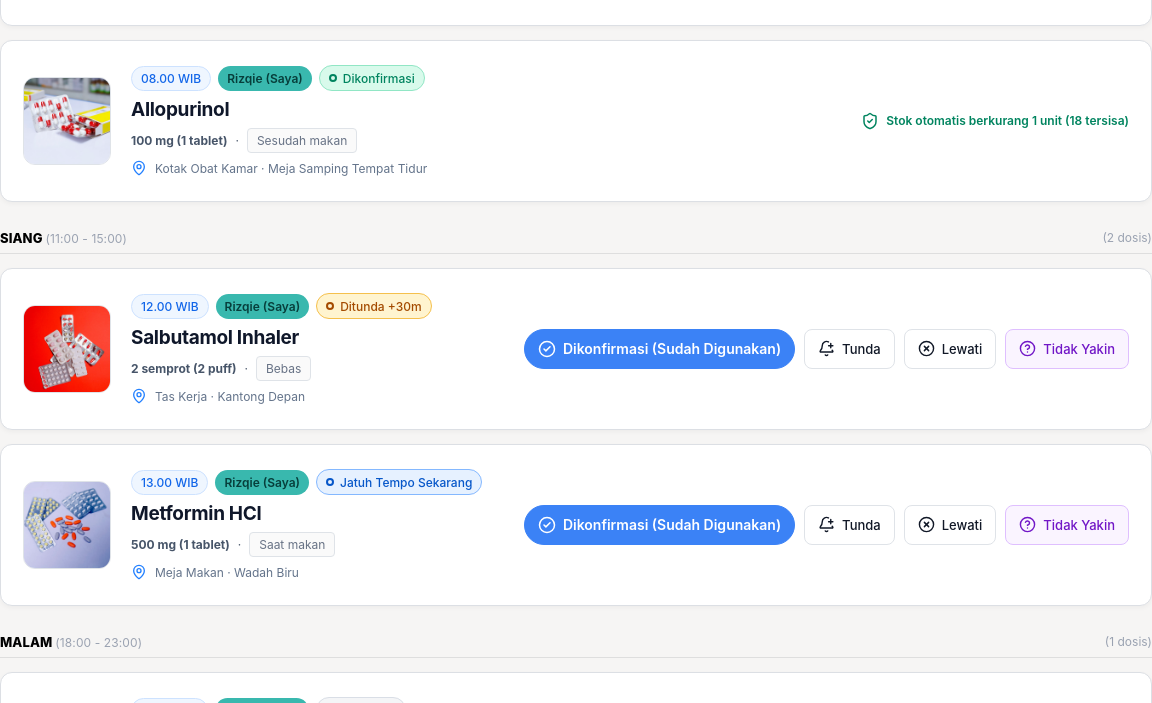
Test: TodayPage › memerlukan alasan sebelum menyimpan dosis dilewati dalam popup
The image size is (1152, 703).
(page scrolled)
Click the button "Lewati" in the row of "Bebas": (950, 349) [904,329,996,369]
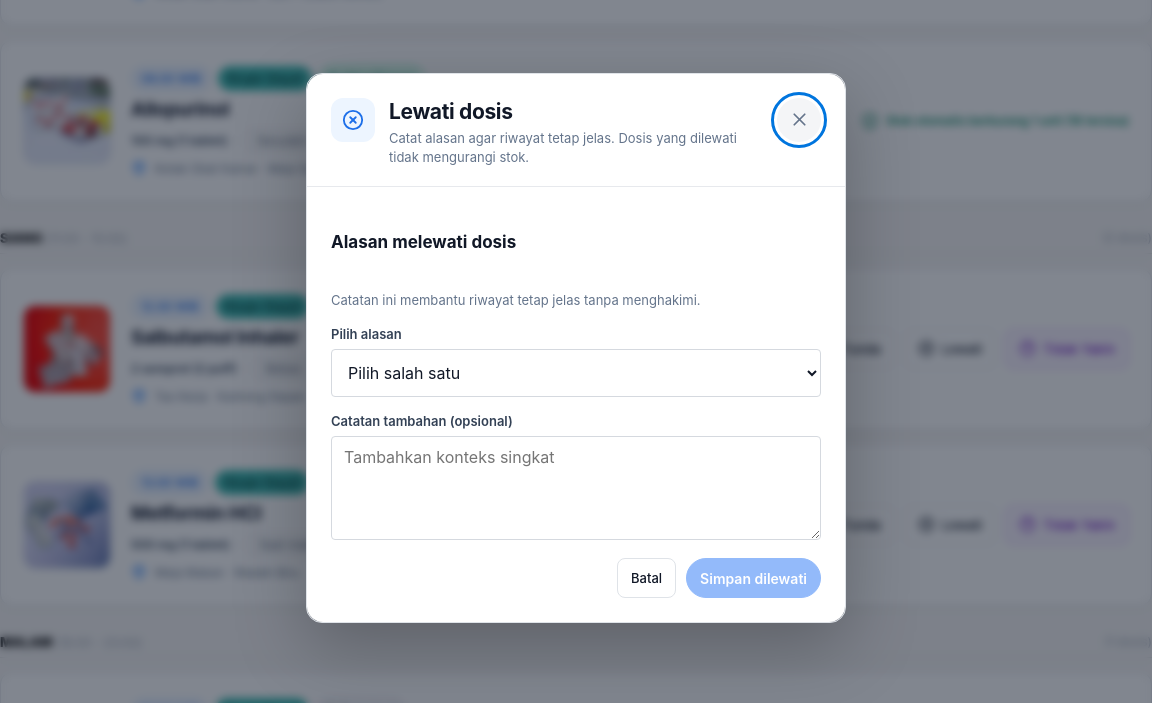
Result: the button "Simpan dilewati" is disabled at [686,558,821,598]
Select "Obat habis" in the dropdown labelled "Pilih alasan": (576, 373) [331,349,821,397]
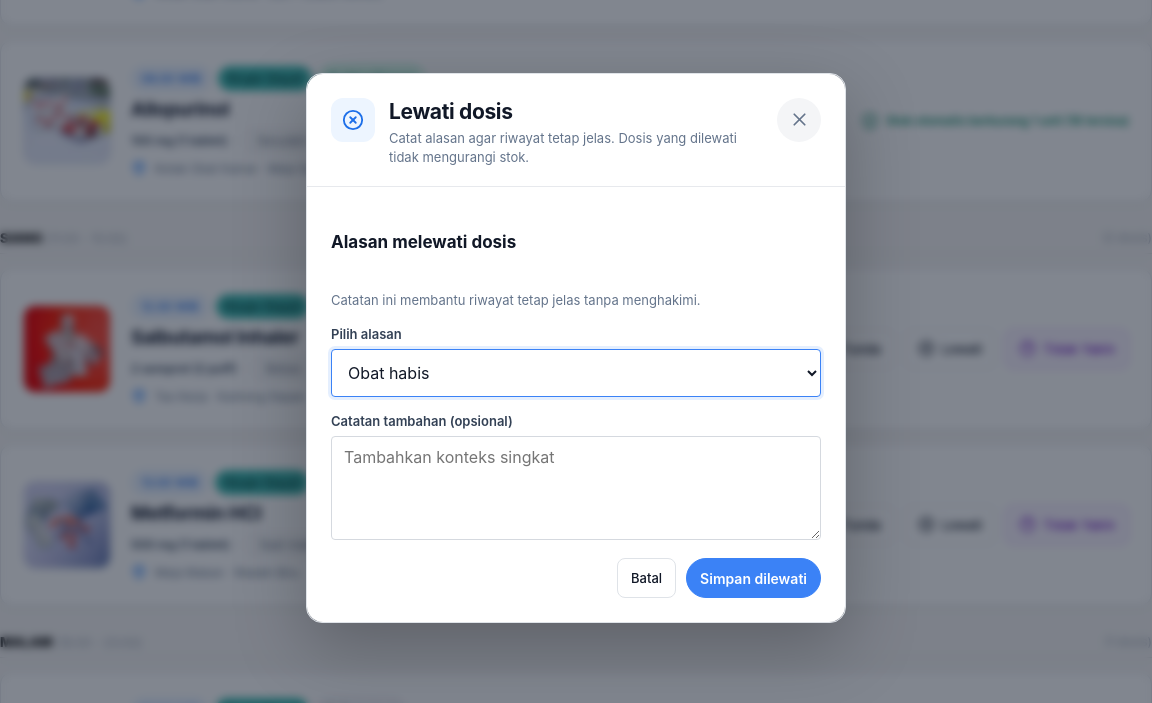
Click the button "Simpan dilewati": (754, 578) [686,558,821,598]
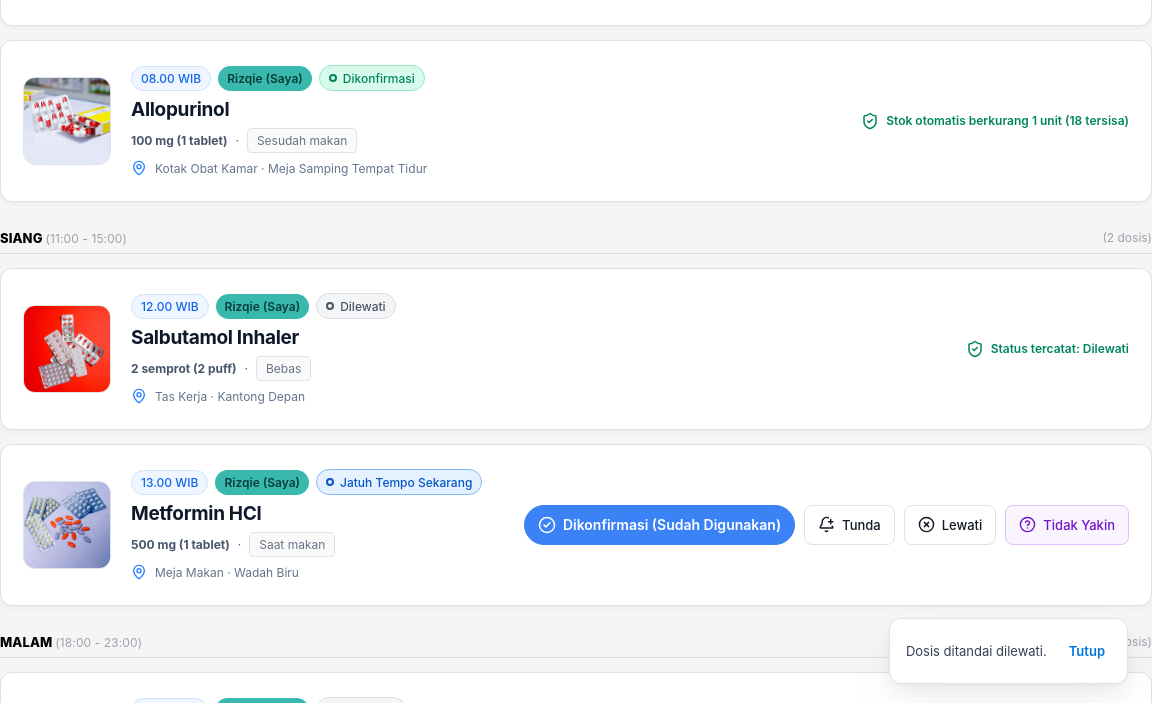
Result: the heading "Lewati dosis" is gone
Result: the text "Status tercatat: Dilewati" is shown at [991,341,1129,356]
